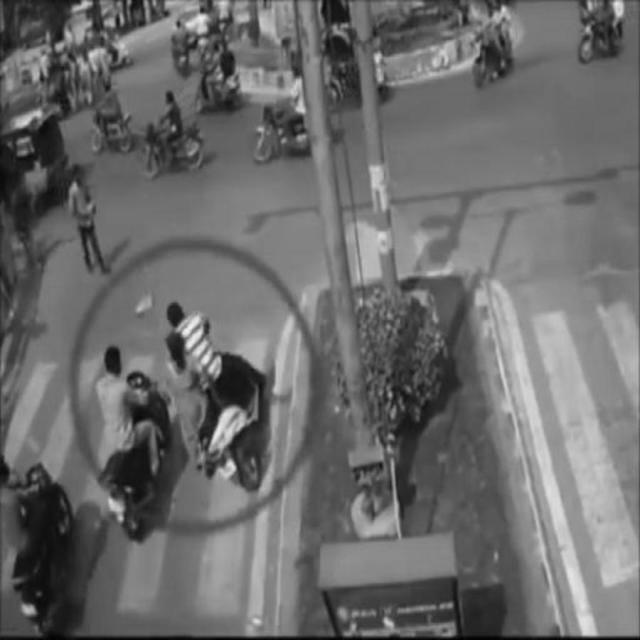person: (67, 164, 113, 277)
vehicle: (158, 300, 268, 490), (94, 348, 168, 538), (249, 75, 323, 166), (141, 88, 205, 176), (88, 74, 134, 157)
